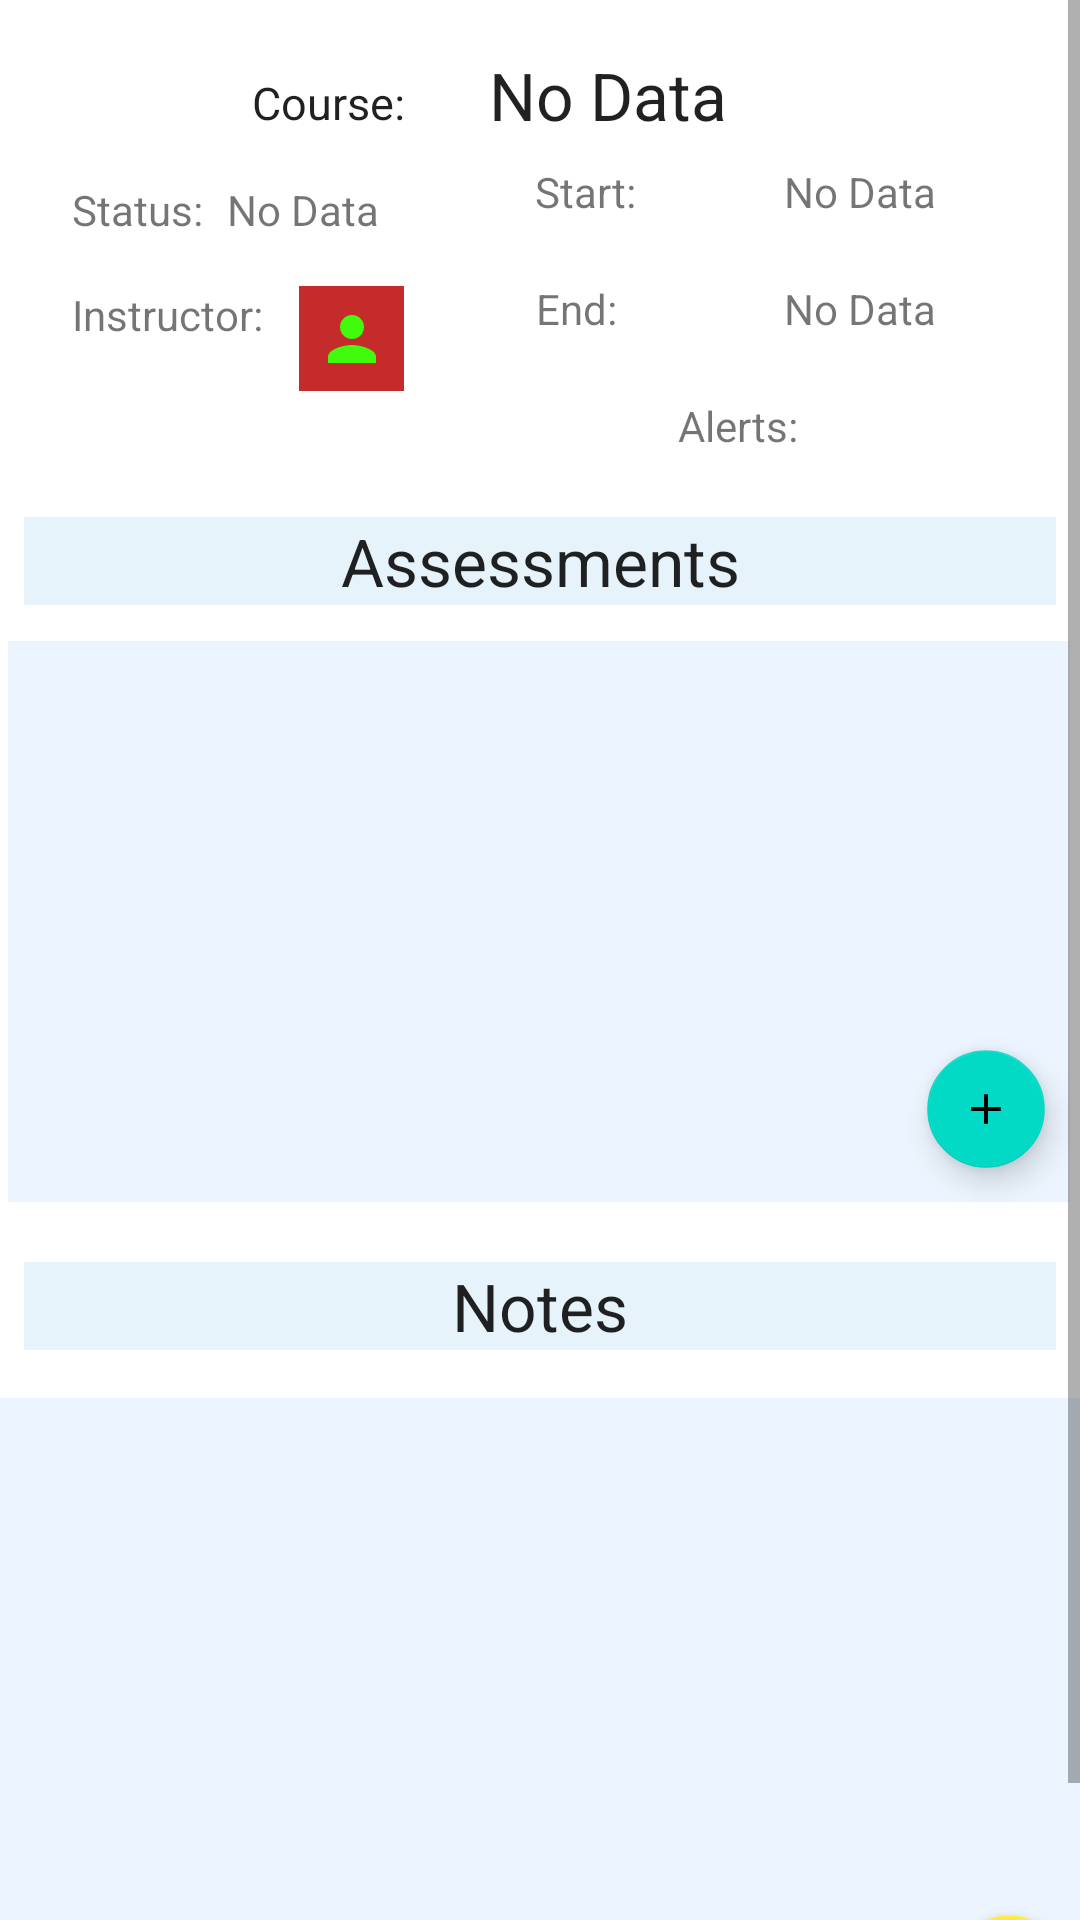

Where to tap for icons on this 1080 x 1920 app screen, as (x=x, y=y):
person: (x=351, y=338)
